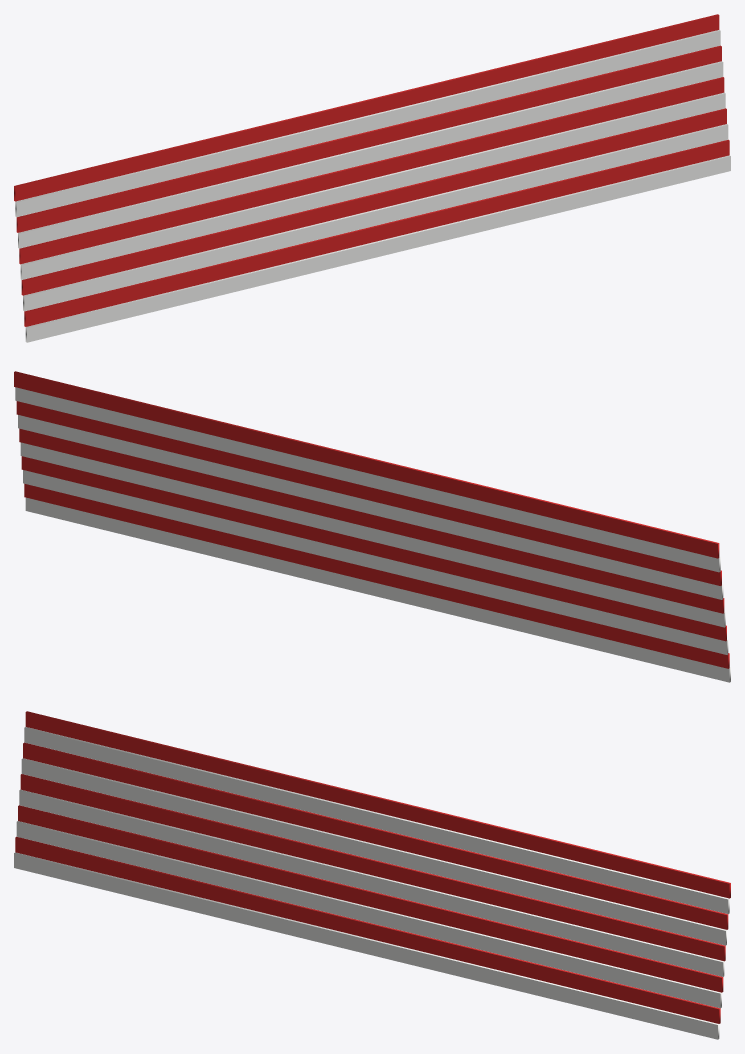
The picture shows the model from 3 angles, top to bottom: view 1: azimuth 30°, elevation 25°; view 2: azimuth 150°, elevation 25°; view 3: azimuth 330°, elevation 25°; orthographic projection.
Parts seen in each view (by area): view 1: K14_b08, K14_b64, K14_b00, K14_b32, K14_b40, K14_b72, K14_b24, K14_b48, K14_b16, K14_b56; view 2: K14_b00, K14_b24, K14_b48, K14_b08, K14_b16, K14_b40, K14_b72, K14_b32, K14_b64, K14_b56; view 3: K14_b08, K14_b64, K14_b00, K14_b32, K14_b40, K14_b72, K14_b24, K14_b48, K14_b16, K14_b56.
Part boxes in pixels (x1=…): K14_b08: x1=15, y1=30, x2=720, y2=217; K14_b64: x1=24, y1=139, x2=729, y2=326; K14_b00: x1=14, y1=14, x2=719, y2=201; K14_b32: x1=19, y1=77, x2=724, y2=264; K14_b40: x1=20, y1=92, x2=725, y2=279; K14_b72: x1=25, y1=155, x2=730, y2=342; K14_b24: x1=18, y1=61, x2=723, y2=248; K14_b48: x1=21, y1=108, x2=726, y2=295; K14_b16: x1=16, y1=45, x2=721, y2=232; K14_b56: x1=23, y1=124, x2=728, y2=311; K14_b00: x1=14, y1=371, x2=719, y2=558; K14_b24: x1=18, y1=415, x2=723, y2=599; K14_b48: x1=21, y1=456, x2=726, y2=641; K14_b08: x1=15, y1=387, x2=720, y2=572; K14_b16: x1=16, y1=401, x2=721, y2=585; K14_b40: x1=20, y1=442, x2=725, y2=627; K14_b72: x1=25, y1=497, x2=730, y2=682; K14_b32: x1=19, y1=428, x2=724, y2=613; K14_b64: x1=24, y1=483, x2=729, y2=668; K14_b56: x1=23, y1=470, x2=728, y2=654; K14_b08: x1=24, y1=727, x2=729, y2=914; K14_b64: x1=15, y1=836, x2=720, y2=1023; K14_b00: x1=25, y1=711, x2=730, y2=898; K14_b32: x1=20, y1=774, x2=725, y2=961; K14_b40: x1=19, y1=789, x2=724, y2=976; K14_b72: x1=14, y1=852, x2=719, y2=1039; K14_b24: x1=21, y1=758, x2=726, y2=945; K14_b48: x1=18, y1=805, x2=723, y2=992; K14_b16: x1=23, y1=742, x2=728, y2=929; K14_b56: x1=16, y1=821, x2=721, y2=1008.
Bounding box in the file's own units: 1 × 0.2 × 0.0318.
